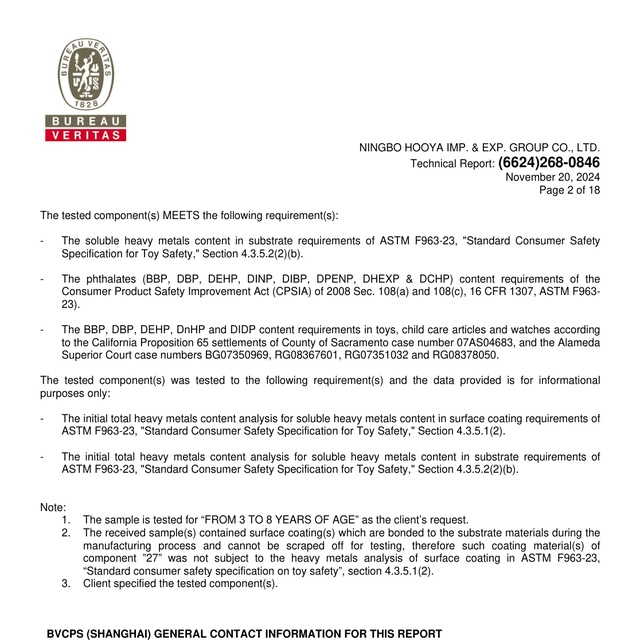bureau_veritas: (39, 38, 127, 142)
